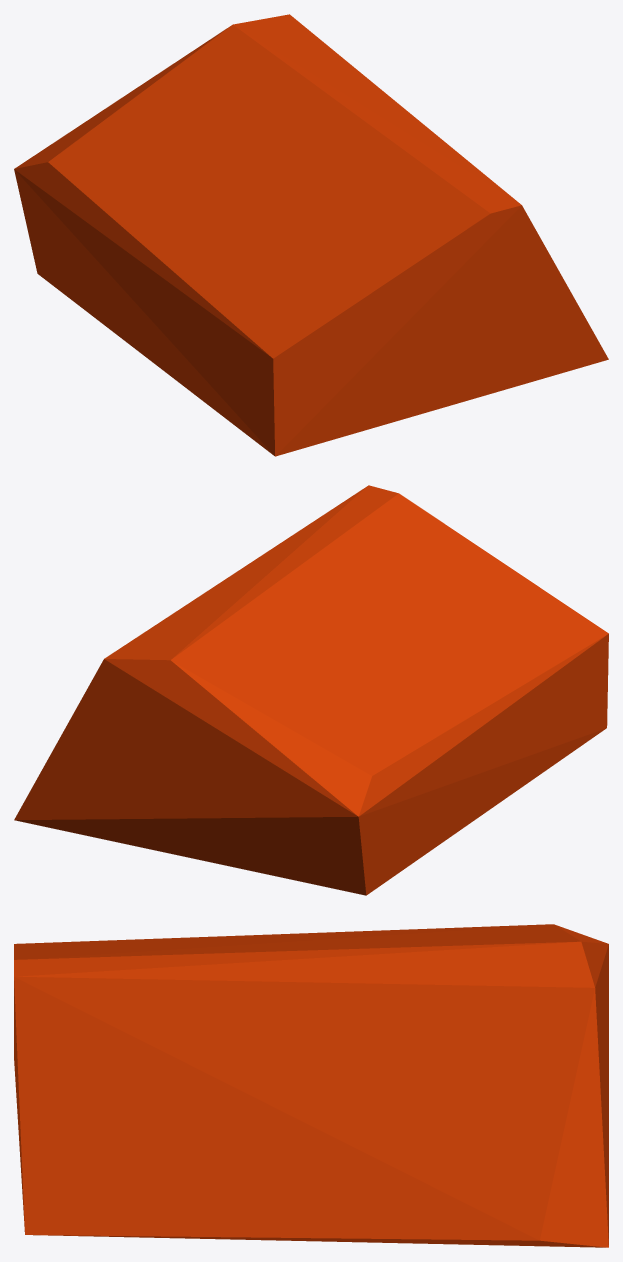
File: pent_convex_piece_001.obj
3 renders of one model, top to bottom at view 1: azimuth 30°, elevation 25°; view 2: azimuth 150°, elevation 25°; view 3: azimuth 270°, elevation 25°, orthographic. The views are drawn at different scales.
Bounding box in the file's own units: 0.0226 × 0.0118 × 0.0276.
